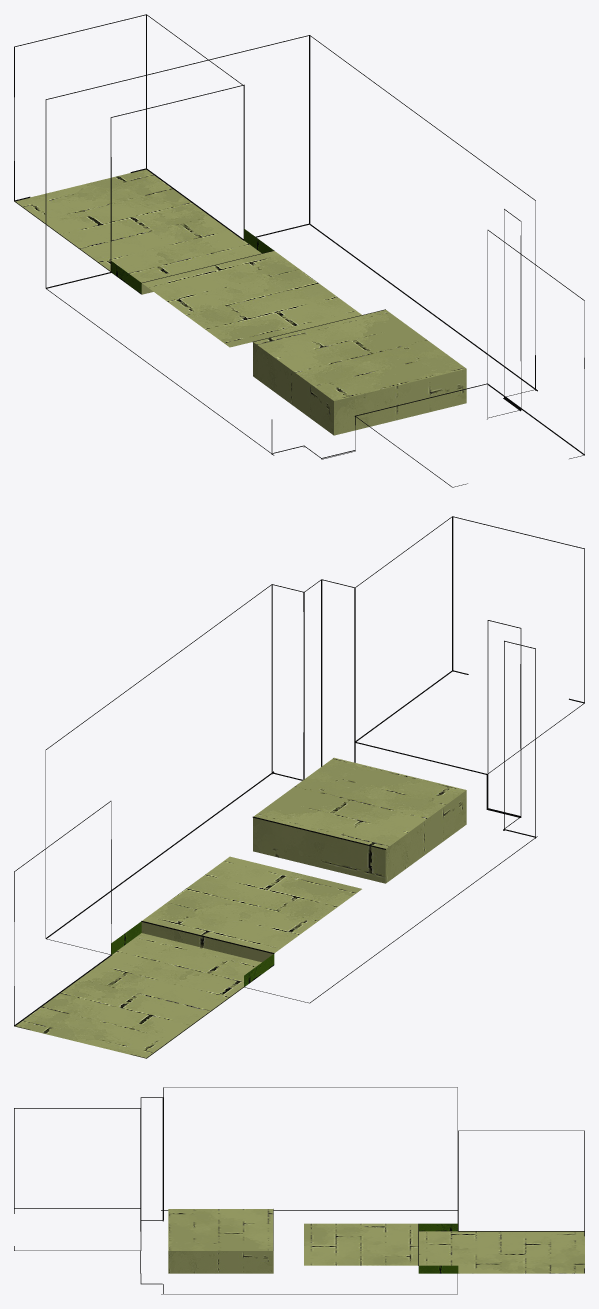
The model's file is Platforms.fbx.
3 renders of one model, top to bottom at view 1: azimuth 30°, elevation 25°; view 2: azimuth 150°, elevation 25°; view 3: azimuth 270°, elevation 25°, orthographic. The views are drawn at different scales.
Parts seen in each view (by area): view 1: Start_Platform, Mid_Platform, polySurface10; view 2: Start_Platform, Mid_Platform, polySurface10; view 3: Start_Platform, Mid_Platform, polySurface10.
Part boxes in pixels (x1,y1,x2,y2): Start_Platform: [15, 169, 361, 347]; Mid_Platform: [253, 309, 466, 435]; polySurface10: [14, 14, 584, 487]; Start_Platform: [15, 856, 361, 1058]; Mid_Platform: [253, 757, 466, 883]; polySurface10: [14, 516, 584, 1058]; Start_Platform: [304, 1223, 584, 1273]; Mid_Platform: [168, 1209, 273, 1273]; polySurface10: [14, 1087, 584, 1294].
Bounding box in the file's own units: 1850 × 1271 × 5320.
